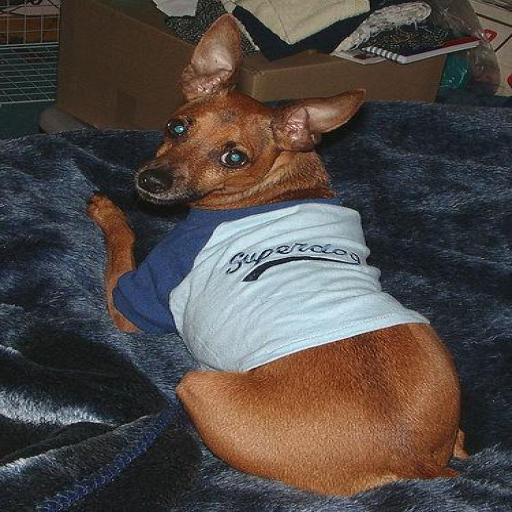dog_face: (136, 20, 356, 213)
